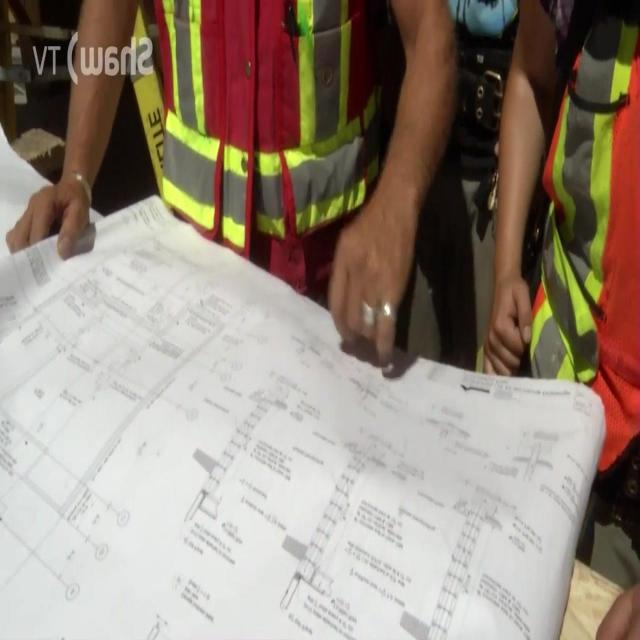Reflective-Jacket: (129, 5, 411, 294), (518, 1, 640, 440)
